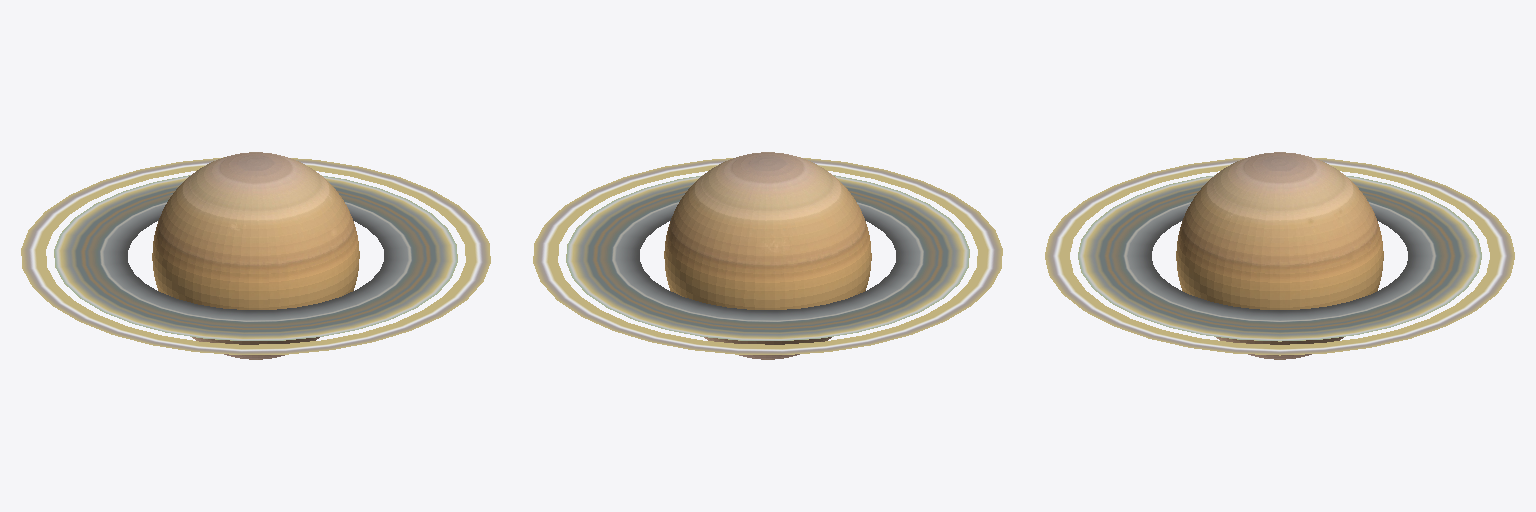
The picture shows the model from 3 angles: view 1: azimuth 30°, elevation 25°; view 2: azimuth 150°, elevation 25°; view 3: azimuth 270°, elevation 25°; orthographic projection.
Parts seen in each view (by area): view 1: Sphere; view 2: Sphere; view 3: Sphere.
Boxes of the visible parts, <box> form: Sphere: <box>21,152,490,359</box>; Sphere: <box>533,152,1002,359</box>; Sphere: <box>1045,152,1514,359</box>.
Size of the model in its own units: 415 by 183 by 415.
Materials: 2 (2 with a texture image).